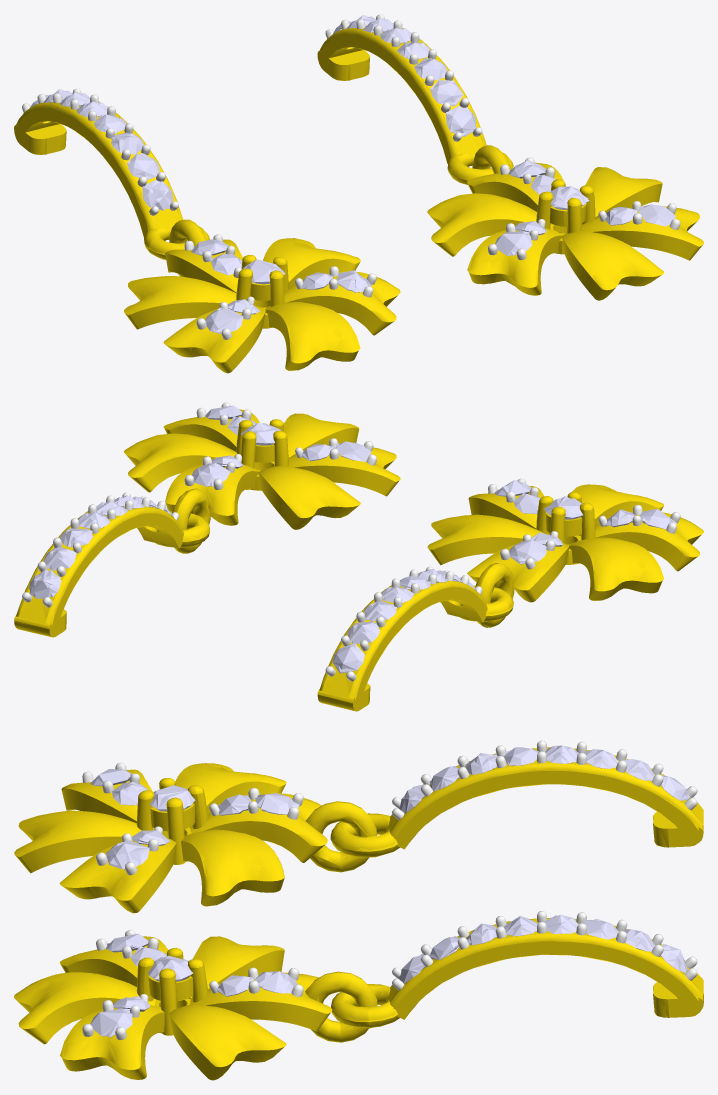
File: DTGN-D000659934.glb
3 views of the same model, one above another, from view 1: azimuth 30°, elevation 25°; view 2: azimuth 150°, elevation 25°; view 3: azimuth 270°, elevation 25° (orthographic). The views are drawn at different scales.
Visible parts, largest first — view 1: highPolyMesh, lowPolyMesh; view 2: highPolyMesh, lowPolyMesh; view 3: highPolyMesh, lowPolyMesh.
Boxes of the visible parts, x1,y1,x2,y2 form: highPolyMesh: (14, 14, 702, 372); lowPolyMesh: (14, 15, 703, 373); highPolyMesh: (14, 402, 703, 710); lowPolyMesh: (14, 402, 703, 711); highPolyMesh: (14, 740, 703, 1080); lowPolyMesh: (14, 740, 703, 1080).
Bounding box in the file's own units: 0.0243 × 0.00477 × 0.0235.
